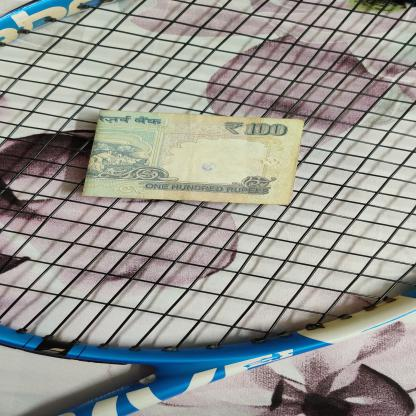Old100Back: (82, 110, 305, 206)
